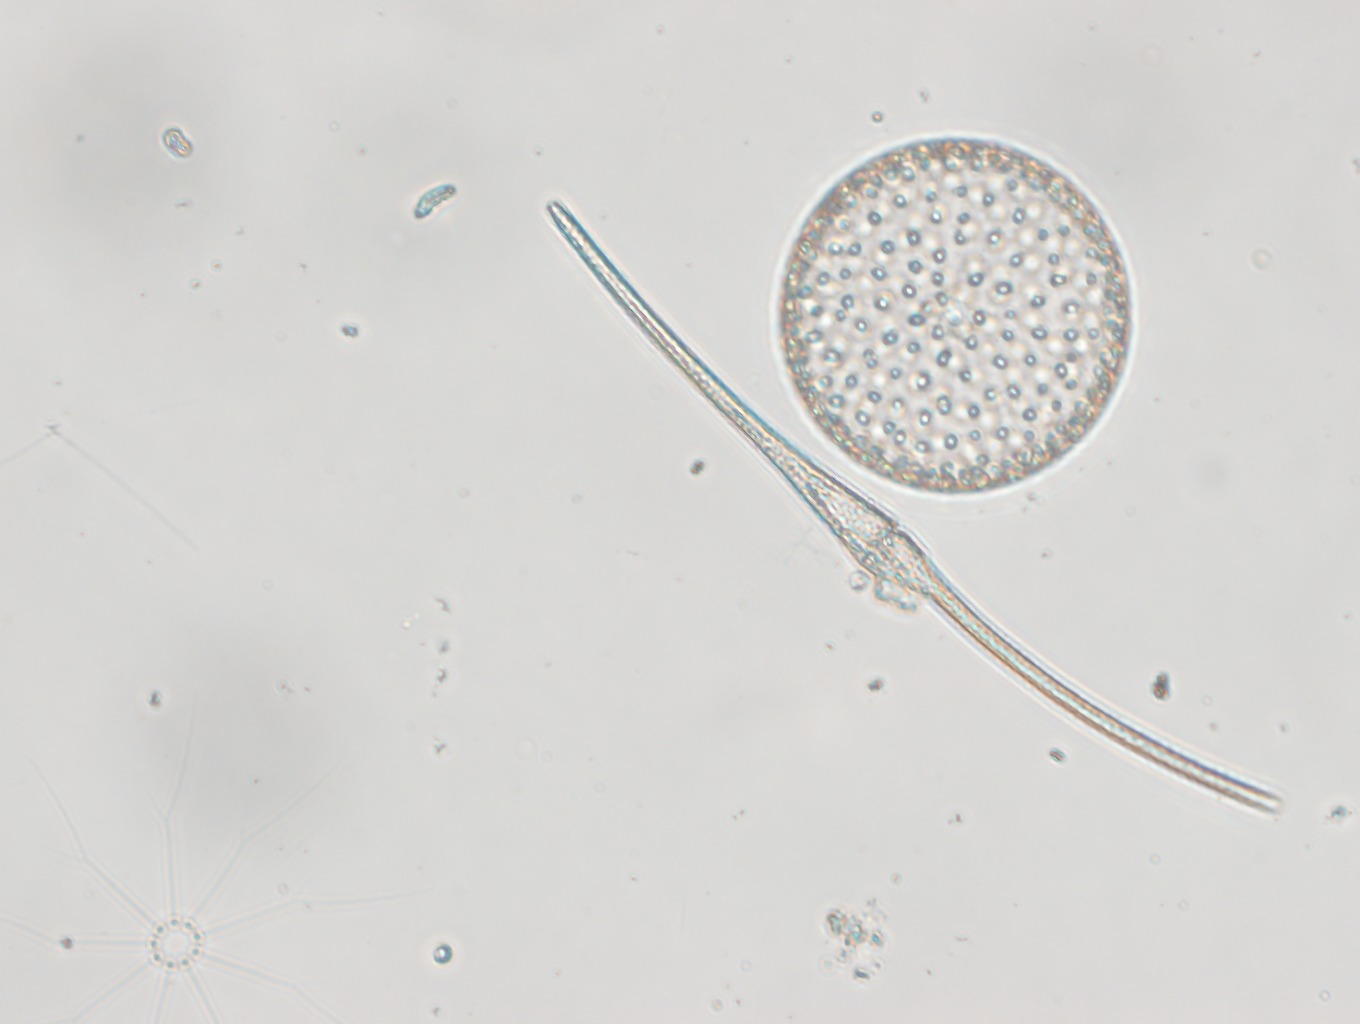ceratium fusus: (528, 193, 1288, 838)
coscinodiscus: (774, 127, 1139, 501)
